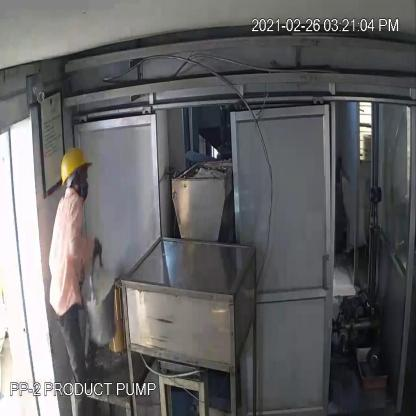helmet: (56, 144, 98, 186)
